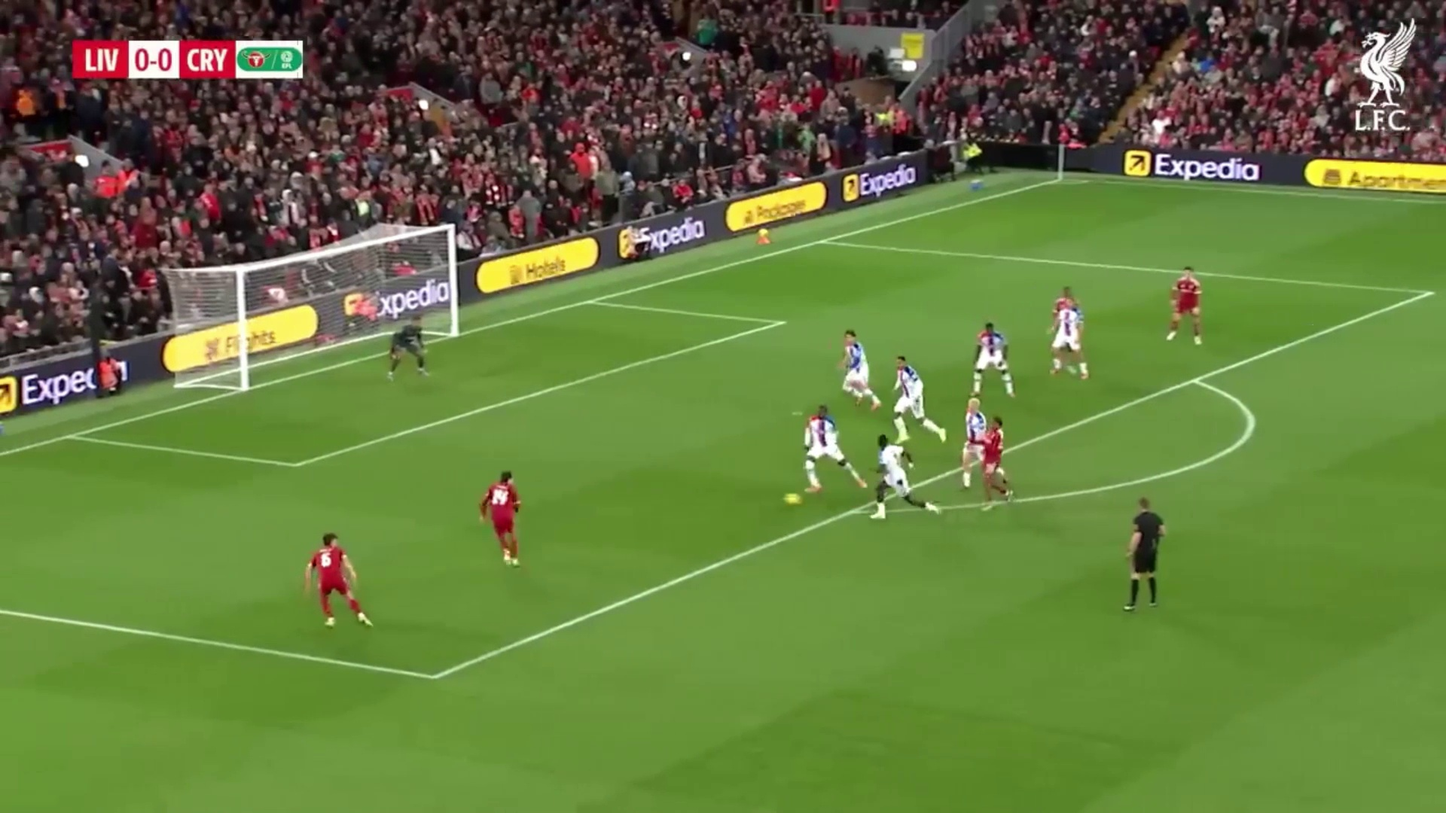player: (870, 434, 941, 521), (310, 532, 373, 628), (802, 406, 856, 495), (960, 419, 1014, 507), (1123, 499, 1165, 611), (959, 402, 1004, 505), (891, 353, 937, 444), (481, 471, 522, 566), (969, 320, 1017, 401), (1048, 289, 1089, 380), (838, 328, 880, 412), (800, 407, 836, 497), (1166, 267, 1205, 345), (979, 415, 1012, 503), (386, 322, 429, 377)
